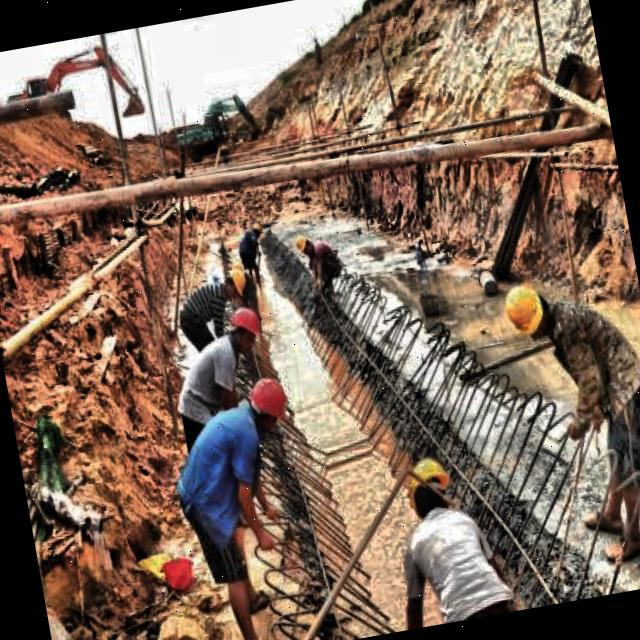helmet: (398, 449, 462, 532), (496, 280, 552, 338), (244, 374, 294, 438), (225, 302, 267, 356), (220, 268, 249, 302), (294, 232, 320, 264)
